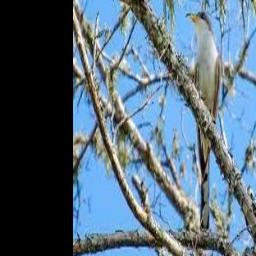Cuckoo: (187, 11, 222, 237)
